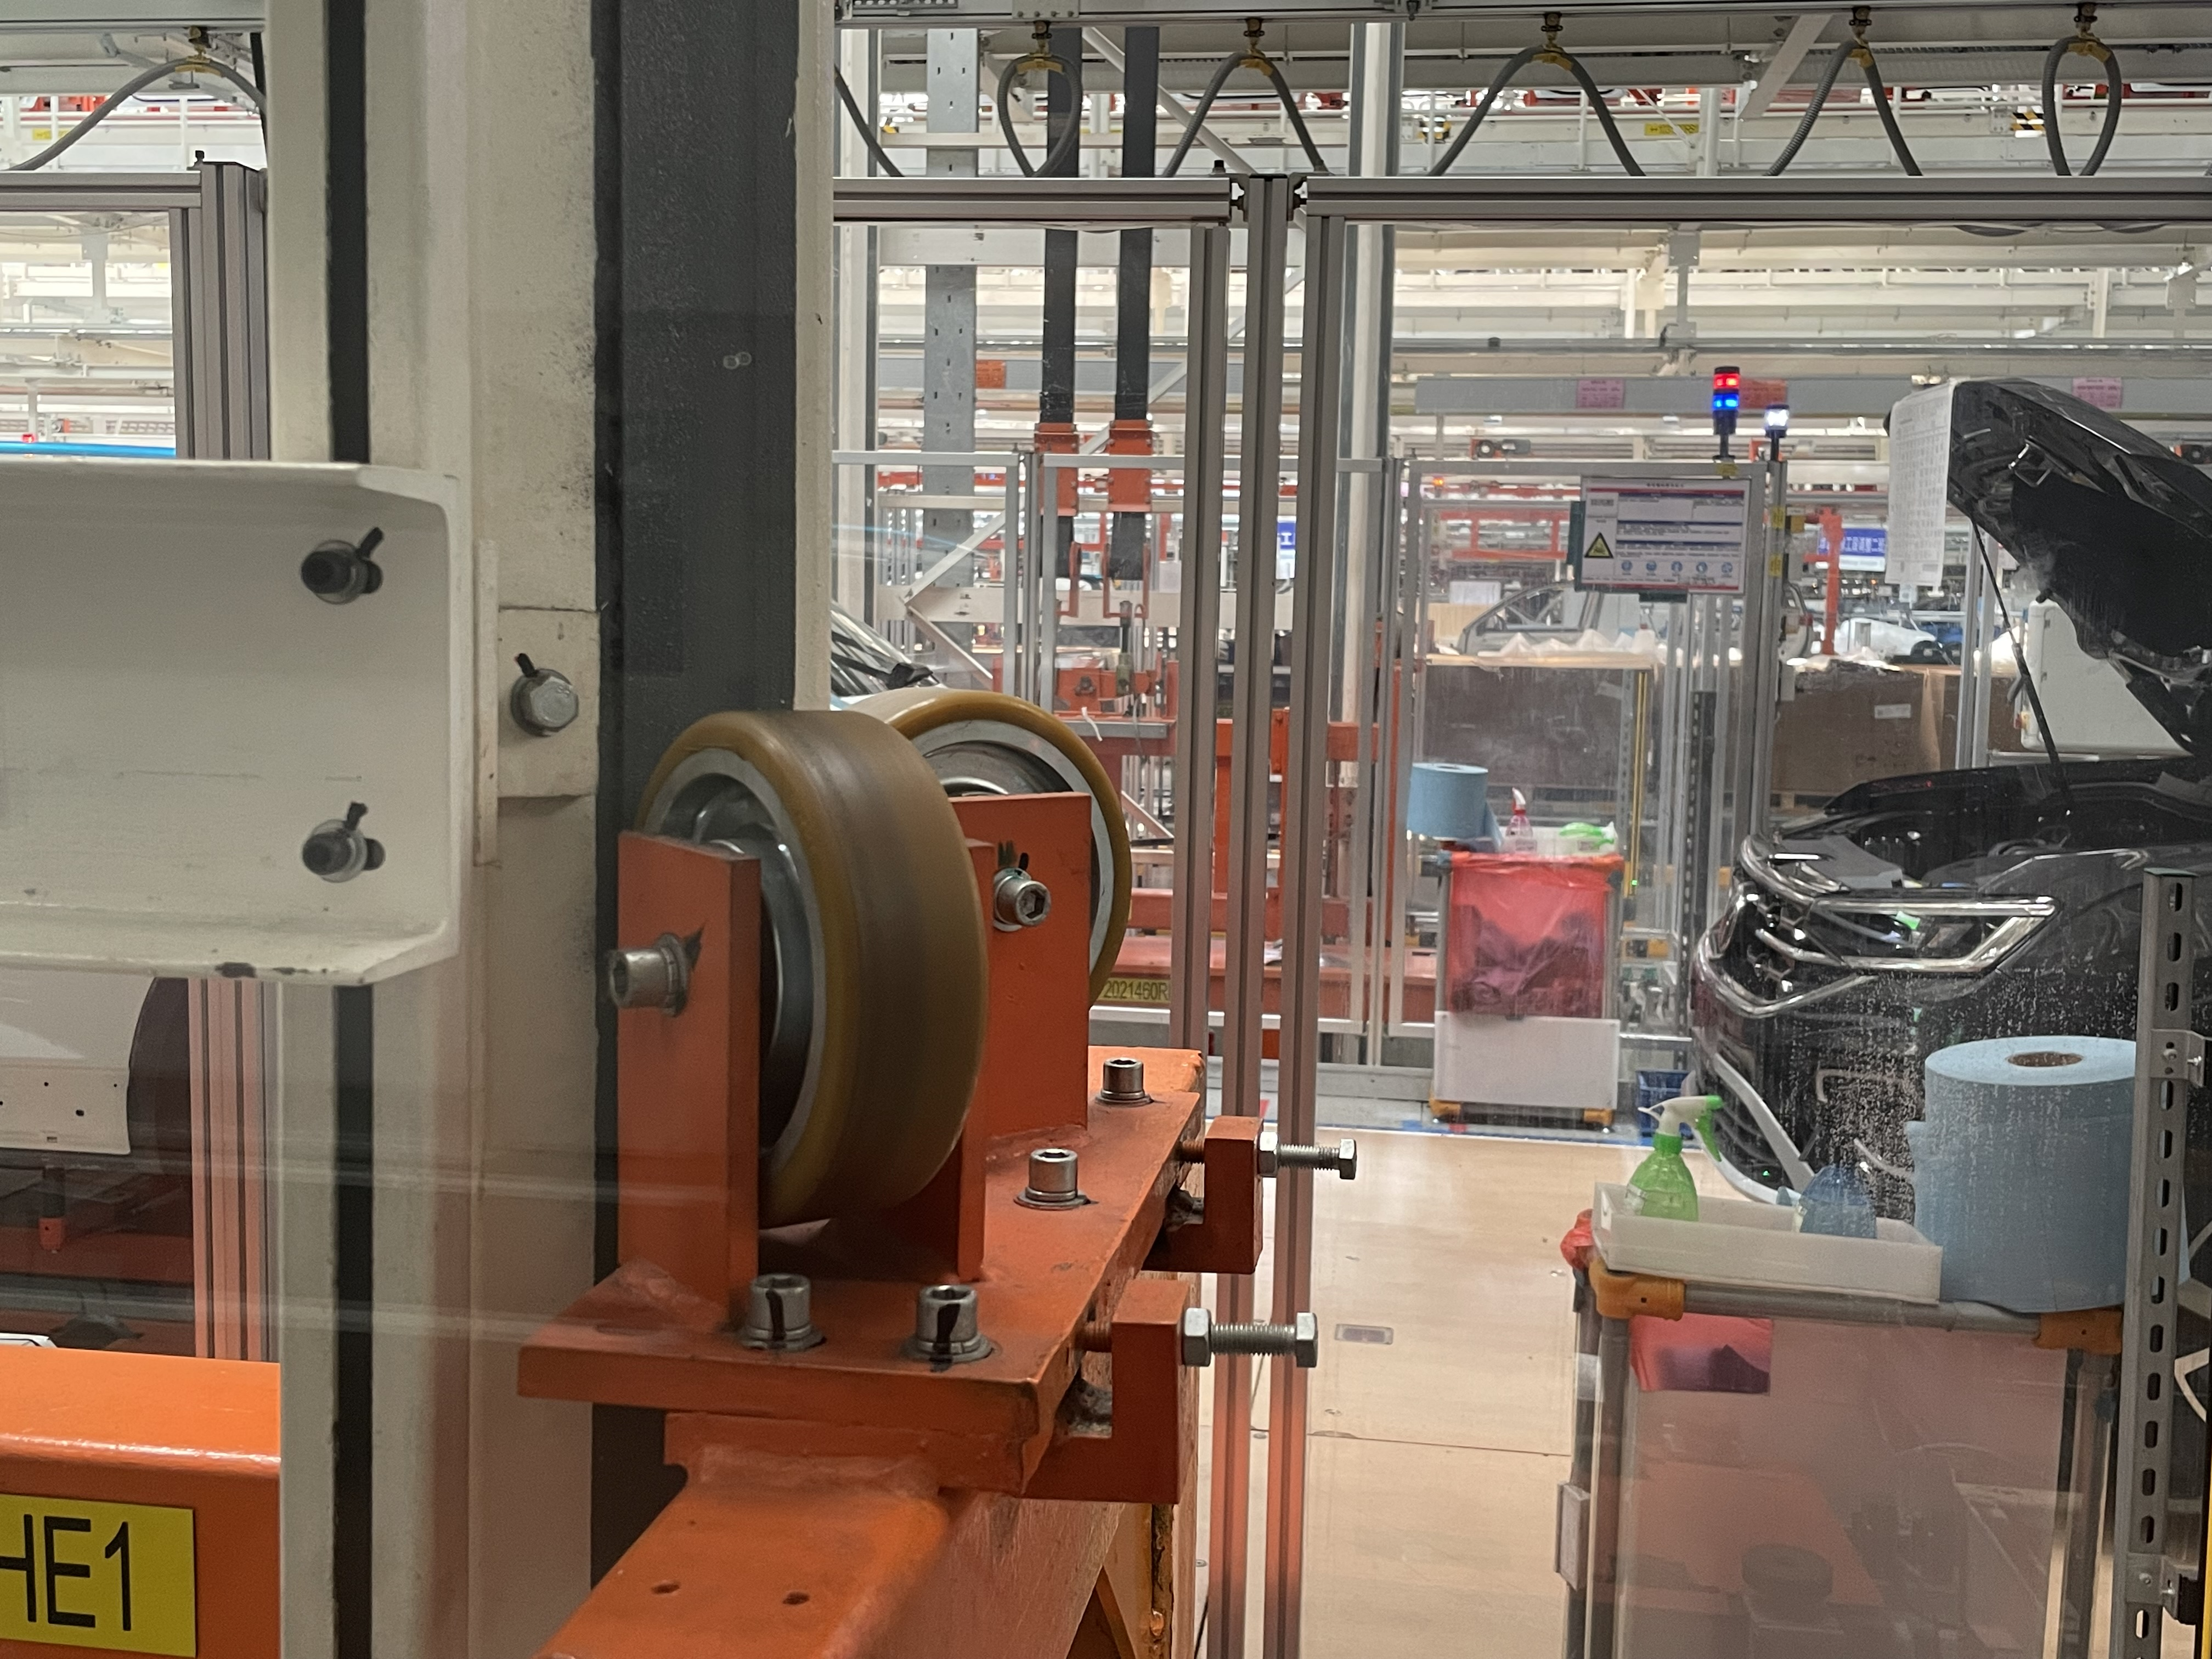good_wheel: (618, 725, 977, 1249), (900, 662, 1170, 1033)
